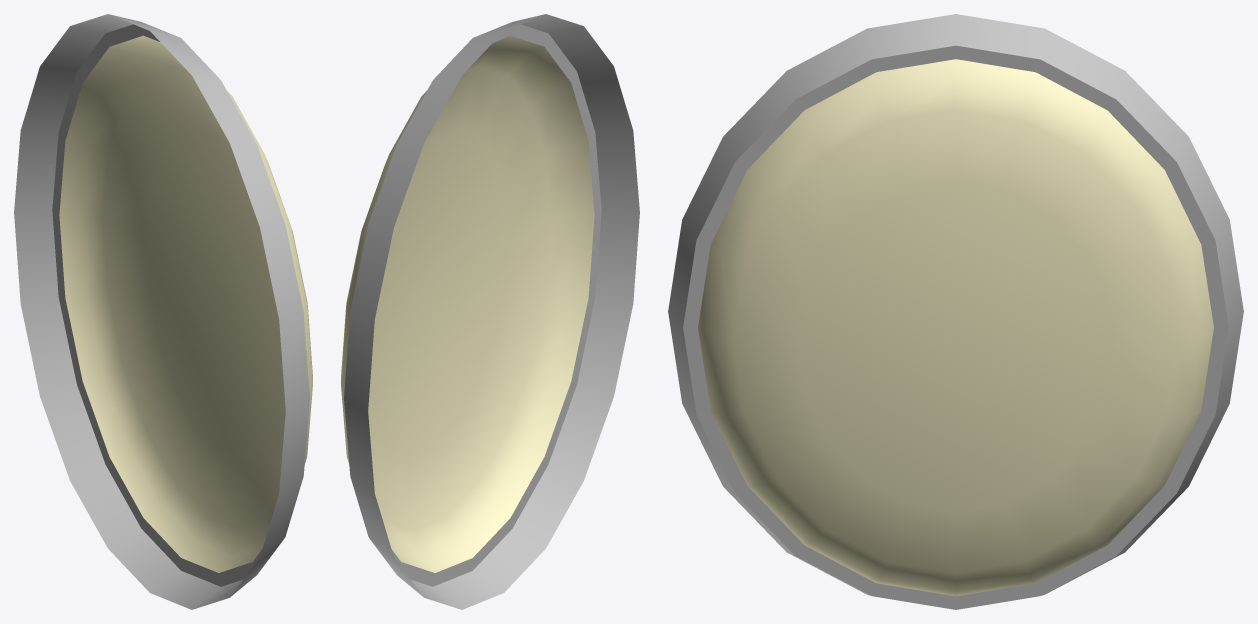
File: WallLight.fbx
The picture shows the model from 3 angles, left to right: view 1: azimuth 30°, elevation 25°; view 2: azimuth 150°, elevation 25°; view 3: azimuth 270°, elevation 25°; orthographic projection. The views are drawn at different scales.
Visible parts, largest first — view 1: Cylinder; view 2: Cylinder; view 3: Cylinder.
Boxes of the visible parts, x1,y1,x2,y2 form: Cylinder: (14,14,312,609); Cylinder: (341,14,639,609); Cylinder: (668,14,1243,609).
Bounding box in the file's own units: 0.0866 × 0.62 × 0.5435.
